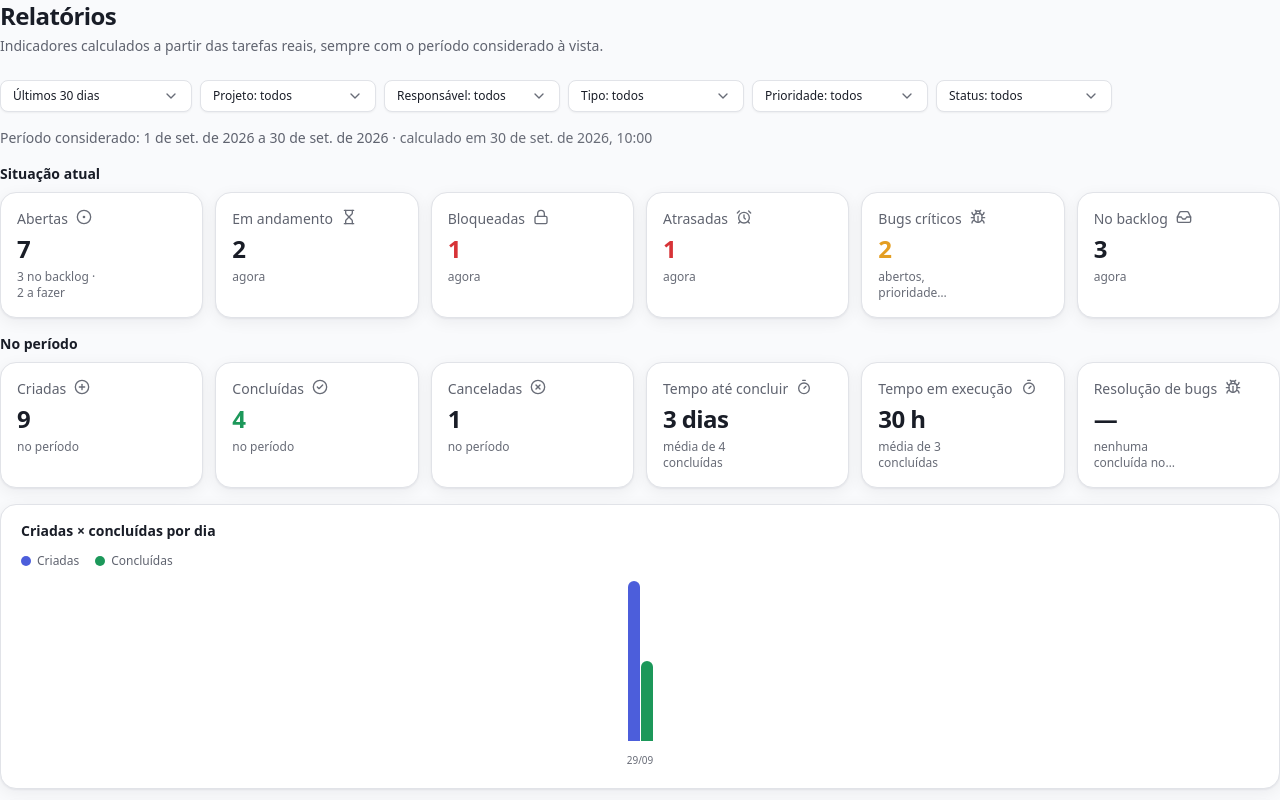
ReportsPage › cada card de indicador abre as tarefas por trás do número, com a mesma consulta do relatório
Click the button "Bloqueadas 1 agora". click: [532, 255]
box: [431, 192, 634, 318]
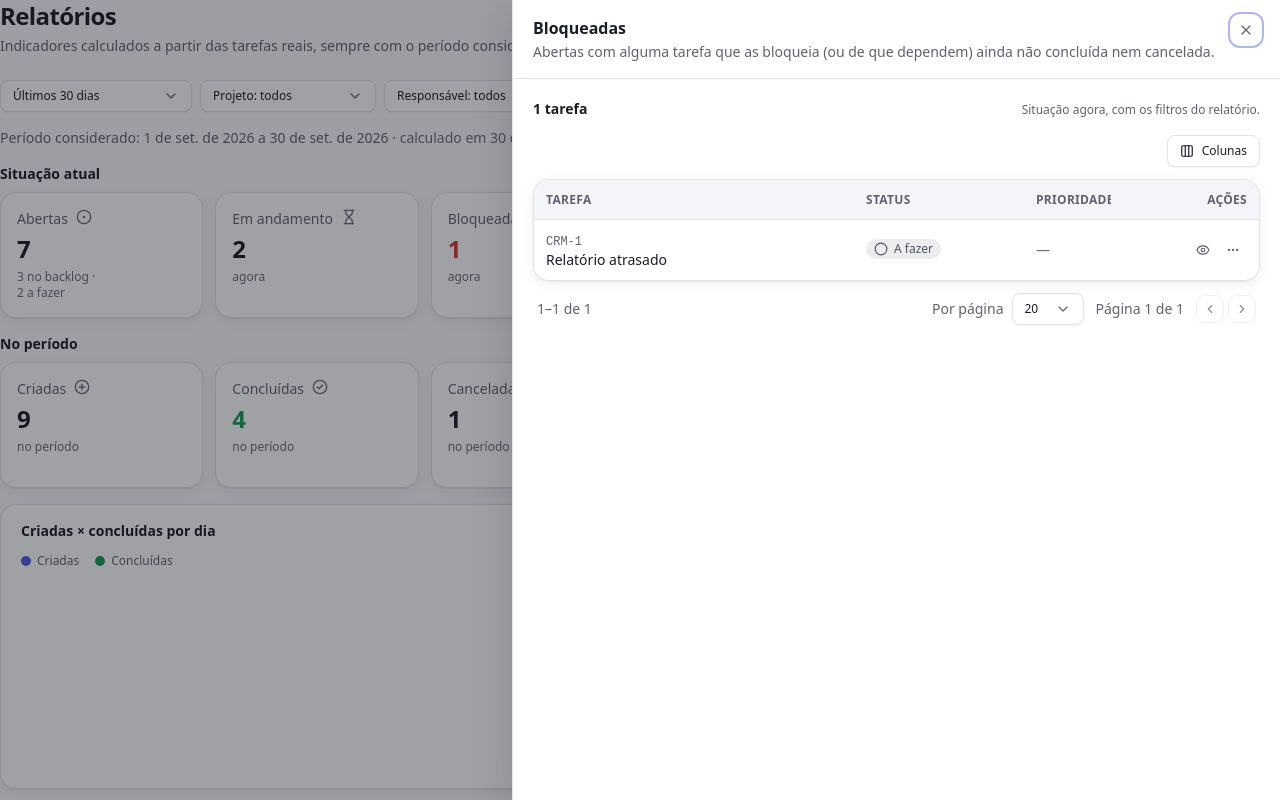
Now the dialog "Bloqueadas" shows "Abertas com alguma tarefa que as bloqueia", box [533, 42, 1214, 61]
Now the text "Relatório atrasado" is shown, box [546, 250, 667, 269]
Now the text "1 tarefa" is shown, box [533, 99, 587, 119]
